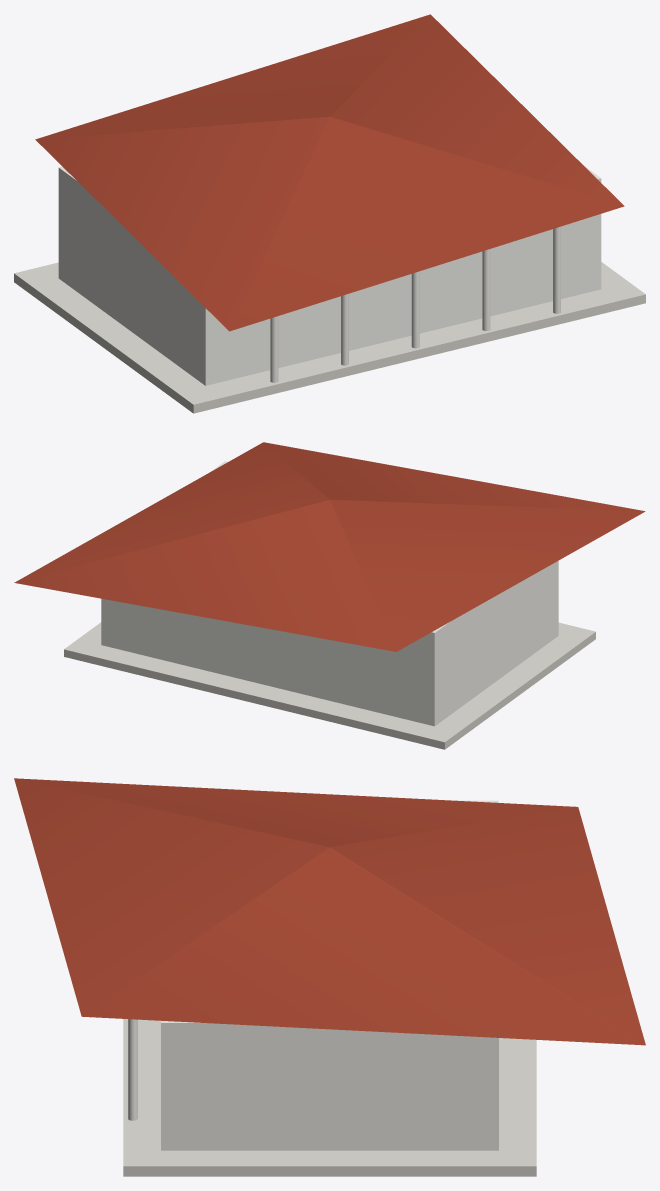
Rendered from guest-house.glb.
3 renders of one model, top to bottom at view 1: azimuth 30°, elevation 25°; view 2: azimuth 150°, elevation 25°; view 3: azimuth 270°, elevation 25°, orthographic. The views are drawn at different scales.
Parts seen in each view (by area): view 1: Institute_Guest_House; view 2: Institute_Guest_House; view 3: Institute_Guest_House.
Part boxes in pixels (left/top/right/bottom): Institute_Guest_House: left=14, top=14, right=645, bottom=413; Institute_Guest_House: left=14, top=442, right=645, bottom=749; Institute_Guest_House: left=14, top=778, right=645, bottom=1176.
Size of the model in its own units: 33.66 by 11.9 by 33.66.
